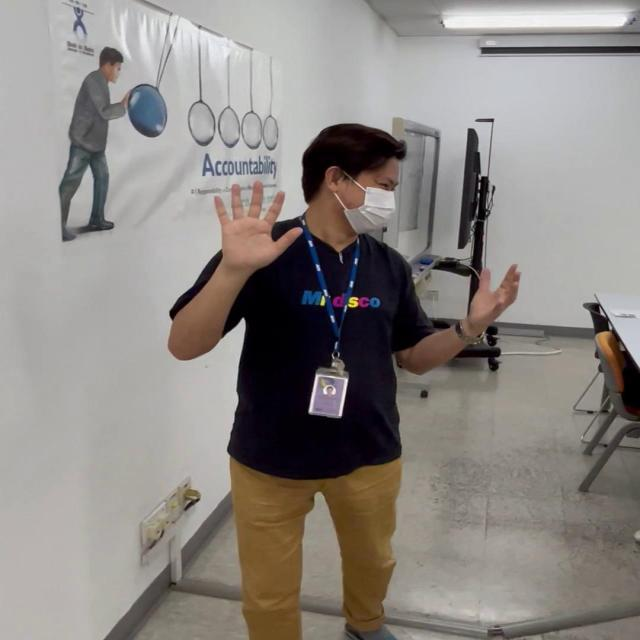bare_hand: (207, 177, 302, 266), (466, 258, 523, 321)
